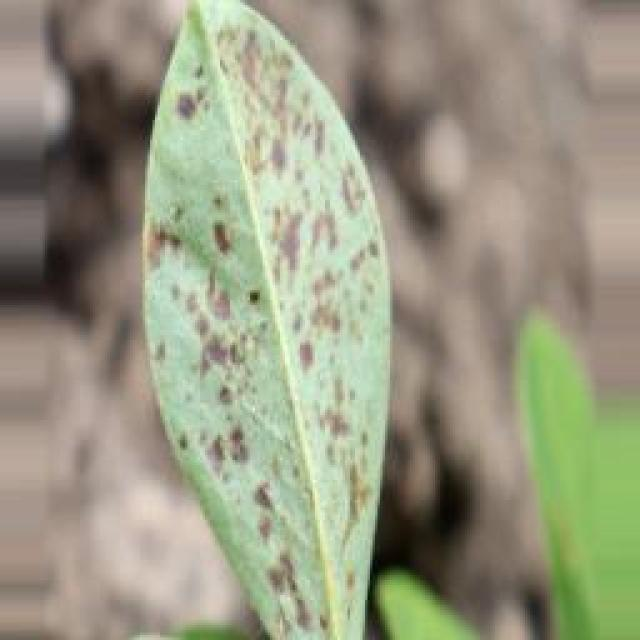Whitefly: (125, 0, 430, 640)
